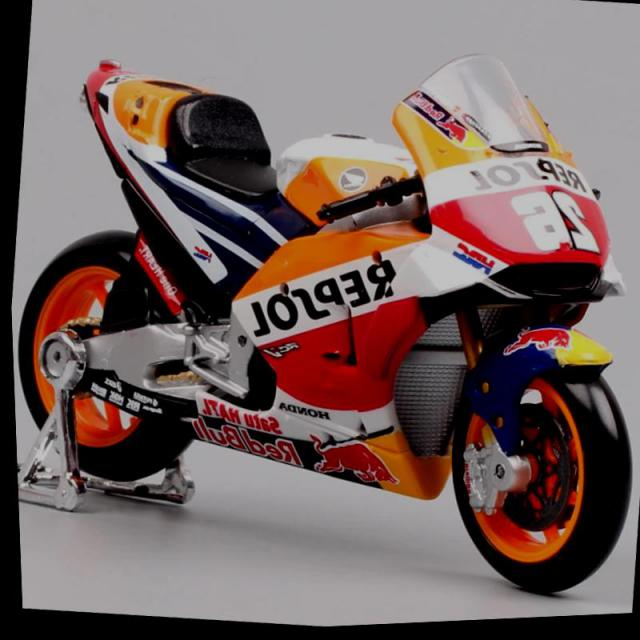HRC RCV 213: (0, 2, 639, 612)
